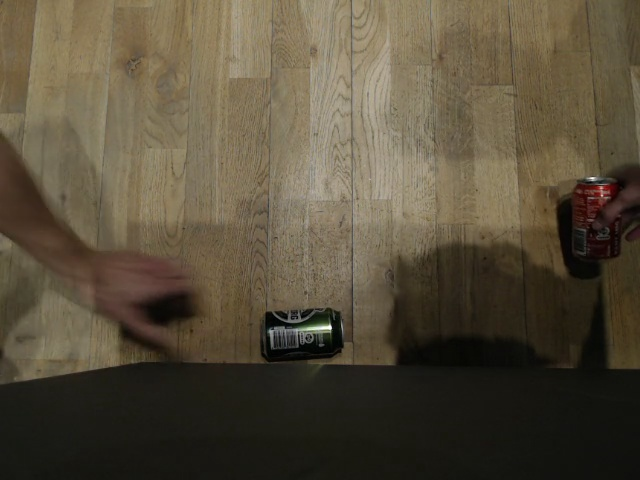beer: (259, 306, 344, 360)
cola: (571, 176, 622, 259)
